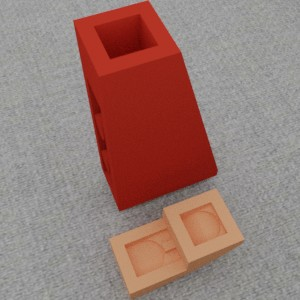lego: (72, 0, 218, 211), (109, 188, 244, 299)
